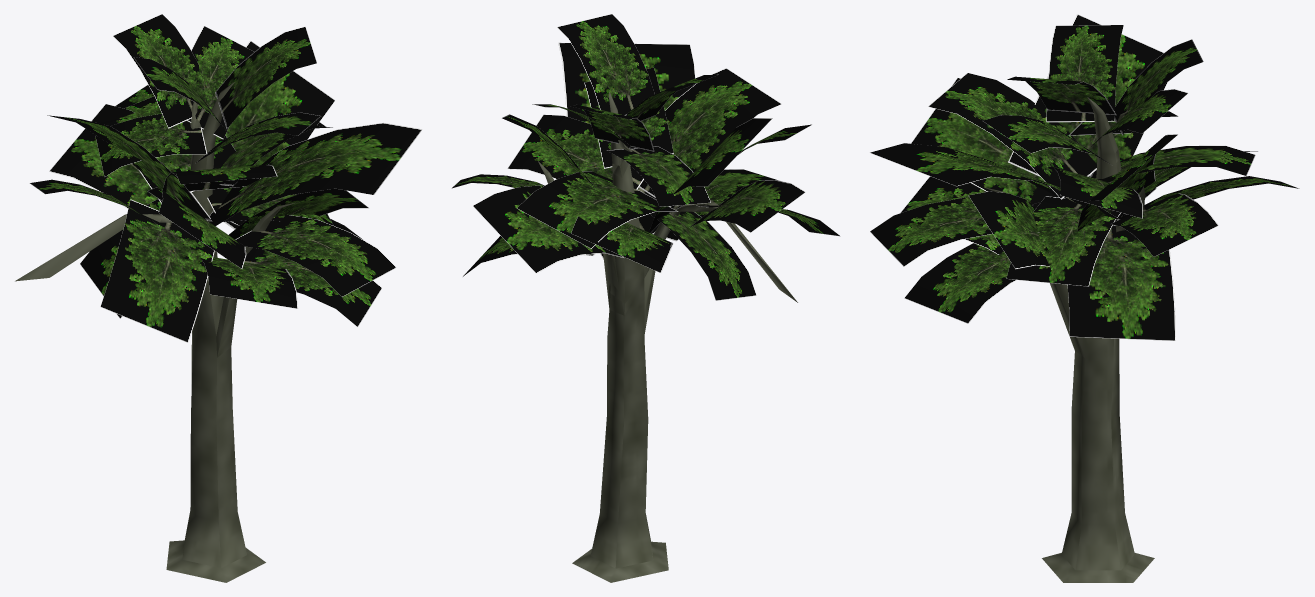
File: tumtum.obj
3 renders of one model, left to right at view 1: azimuth 30°, elevation 25°; view 2: azimuth 150°, elevation 25°; view 3: azimuth 270°, elevation 25°, orthographic. The views are drawn at different scales.
Parts seen in each view (by area): view 1: Vertex_Object2, Vertex_Object_1_1, Vertex_Object_1_17, Vertex_Object_1_24, Vertex_Object_1_13, Vertex_Object_1_23, Vertex_Object_1_8, Vertex_Object_1_12, Vertex_Object_1_14, Vertex_Object_1_6, Vertex_Object3, Vertex_Object_1_15 (+12 smaller); view 2: Vertex_Object2, Vertex_Object_1_18, Vertex_Object_1_19, Vertex_Object_1_23, Vertex_Object_1_10, Vertex_Object_1_22, Vertex_Object_1_4, Vertex_Object_1_17, Vertex_Object_1_14, Vertex_Object_1_2, Vertex_Object3, Vertex_Object_1_8 (+9 smaller); view 3: Vertex_Object2, Vertex_Object_1_9, Vertex_Object_1_18, Vertex_Object_1_21, Vertex_Object_1_7, Vertex_Object_1_16, Vertex_Object_1_24, Vertex_Object_1, Vertex_Object_1_17, Vertex_Object_1_5, Vertex_Object_1_11, Vertex_Object_1_3 (+10 smaller).
Part boxes in pixels (bbox=[...]): Vertex_Object2: bbox=[166, 82, 265, 582]; Vertex_Object_1_1: bbox=[100, 199, 214, 342]; Vertex_Object_1_17: bbox=[208, 123, 422, 226]; Vertex_Object_1_24: bbox=[235, 215, 396, 296]; Vertex_Object_1_13: bbox=[113, 14, 198, 128]; Vertex_Object_1_23: bbox=[215, 26, 316, 128]; Vertex_Object_1_8: bbox=[49, 104, 157, 208]; Vertex_Object_1_12: bbox=[224, 40, 334, 229]; Vertex_Object_1_14: bbox=[95, 113, 207, 176]; Vertex_Object_1_6: bbox=[202, 257, 298, 308]; Vertex_Object3: bbox=[15, 102, 295, 357]; Vertex_Object_1_15: bbox=[187, 26, 254, 139]; Vertex_Object2: bbox=[572, 92, 668, 582]; Vertex_Object_1_18: bbox=[639, 68, 781, 207]; Vertex_Object_1_19: bbox=[517, 171, 678, 248]; Vertex_Object_1_23: bbox=[557, 14, 654, 115]; Vertex_Object_1_10: bbox=[473, 185, 623, 273]; Vertex_Object_1_22: bbox=[507, 114, 643, 189]; Vertex_Object_1_4: bbox=[650, 211, 756, 300]; Vertex_Object_1_17: bbox=[558, 42, 695, 199]; Vertex_Object_1_14: bbox=[607, 146, 710, 206]; Vertex_Object_1_2: bbox=[689, 180, 805, 232]; Vertex_Object3: bbox=[538, 140, 797, 333]; Vertex_Object_1_8: bbox=[571, 216, 673, 272]; Vertex_Object2: bbox=[1042, 97, 1154, 582]; Vertex_Object_1_9: bbox=[1067, 225, 1175, 340]; Vertex_Object_1_18: bbox=[928, 73, 1096, 199]; Vertex_Object_1_21: bbox=[1006, 196, 1120, 286]; Vertex_Object_1_7: bbox=[904, 243, 1016, 323]; Vertex_Object_1_16: bbox=[1046, 25, 1123, 122]; Vertex_Object_1_24: bbox=[870, 197, 1039, 266]; Vertex_Object_1: bbox=[911, 78, 1058, 207]; Vertex_Object_1_17: bbox=[870, 143, 1117, 219]; Vertex_Object_1_5: bbox=[968, 191, 1049, 269]; Vertex_Object_1_11: bbox=[1110, 193, 1218, 256]; Vertex_Object_1_3: bbox=[1008, 14, 1167, 176].
Size of the model in its own units: 70.13 by 106 by 79.42.
3 materials, 3 textured.
